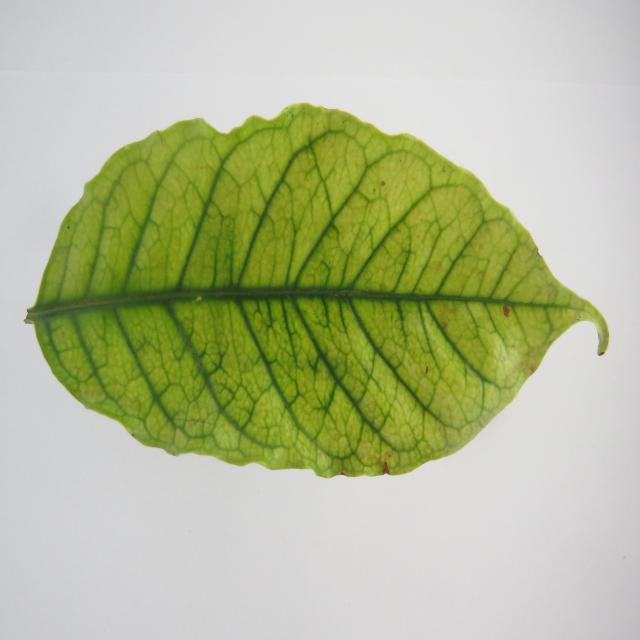DeficienciaNutricional-Hierro: (25, 107, 598, 478)
